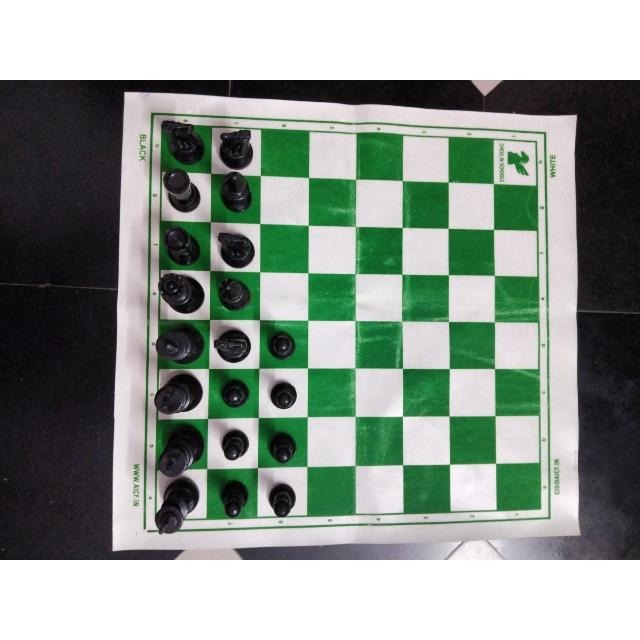black-bishop: (213, 271, 257, 314), (215, 171, 254, 215)
black-king: (148, 478, 203, 538), (152, 424, 206, 480), (152, 322, 207, 367), (152, 374, 204, 415)
black-knight: (161, 115, 207, 166), (217, 123, 261, 170), (214, 224, 258, 268), (212, 323, 254, 365)
black-pawn: (210, 476, 254, 520), (264, 325, 302, 369), (215, 424, 256, 464), (264, 377, 303, 416), (263, 478, 301, 518), (264, 426, 301, 466), (219, 374, 253, 410)
black-queen: (156, 268, 208, 318)
black-rook: (159, 165, 203, 215), (162, 220, 203, 266)
